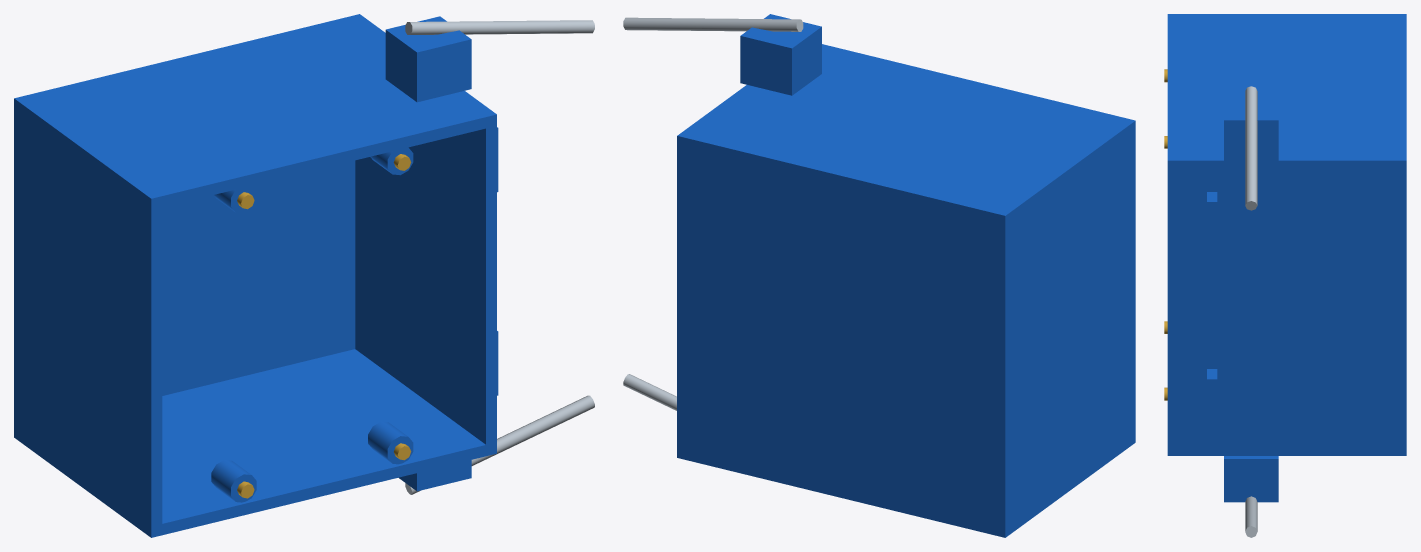
3 renders of one model, left to right at view 1: azimuth 30°, elevation 25°; view 2: azimuth 150°, elevation 25°; view 3: azimuth 270°, elevation 25°, orthographic. The views are drawn at different scales.
Parts seen in each view (by area): view 1: cad-box-two-gang-standard; view 2: cad-box-two-gang-standard; view 3: cad-box-two-gang-standard.
Part boxes in pixels (x1,y1,x2,y2): cad-box-two-gang-standard: [14, 14, 594, 537]; cad-box-two-gang-standard: [623, 14, 1135, 537]; cad-box-two-gang-standard: [1164, 14, 1406, 537].
Bounding box in the file's own units: 0.1438 × 0.1328 × 0.0709.
